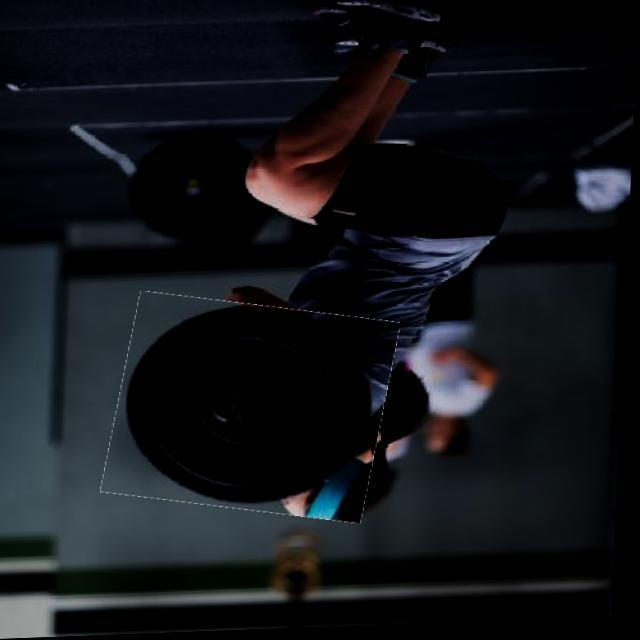barbell: (112, 295, 398, 525)
